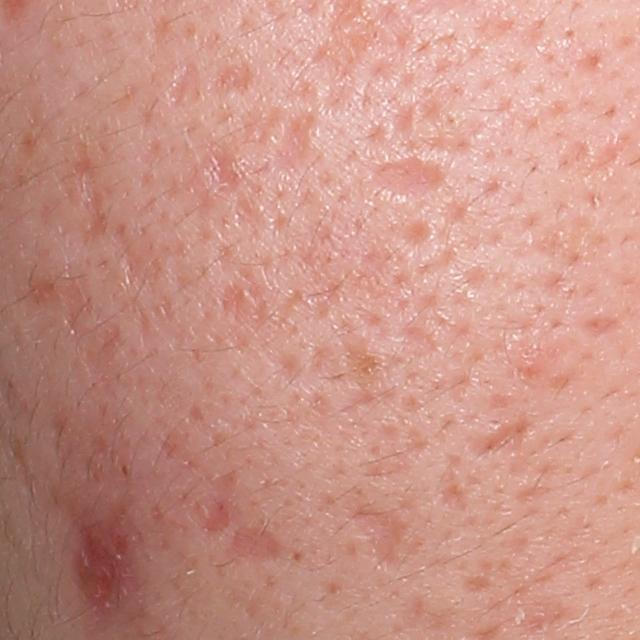atrophic_scar: (283, 335, 405, 395), (81, 509, 132, 624), (109, 227, 164, 324), (176, 120, 236, 208), (349, 508, 412, 574), (73, 142, 107, 246), (371, 156, 447, 200), (475, 411, 528, 459), (272, 116, 313, 173), (161, 61, 202, 110), (228, 525, 274, 562), (438, 477, 478, 514), (209, 64, 246, 101), (400, 216, 435, 248), (582, 317, 627, 340), (461, 571, 492, 599), (391, 101, 413, 139)
